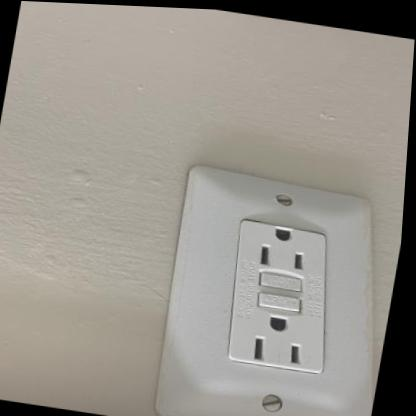OUTLET: (150, 165, 388, 416)
